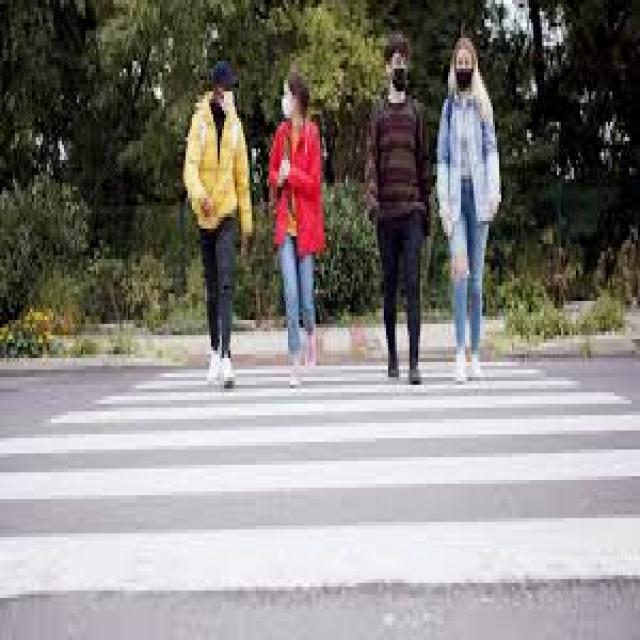Pedestrians: (181, 57, 254, 385), (367, 34, 431, 385), (438, 38, 500, 381), (269, 72, 322, 388)
